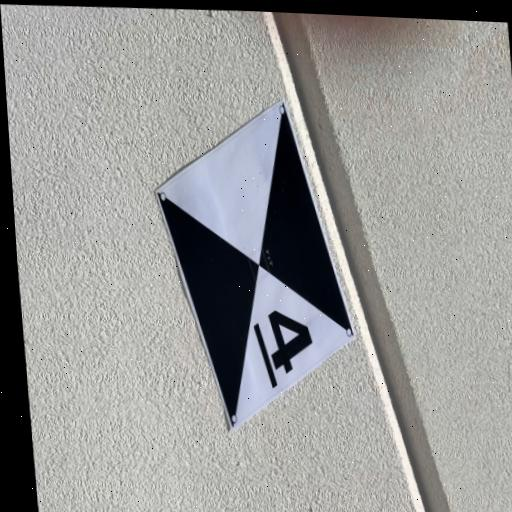target4: (156, 99, 354, 430)
